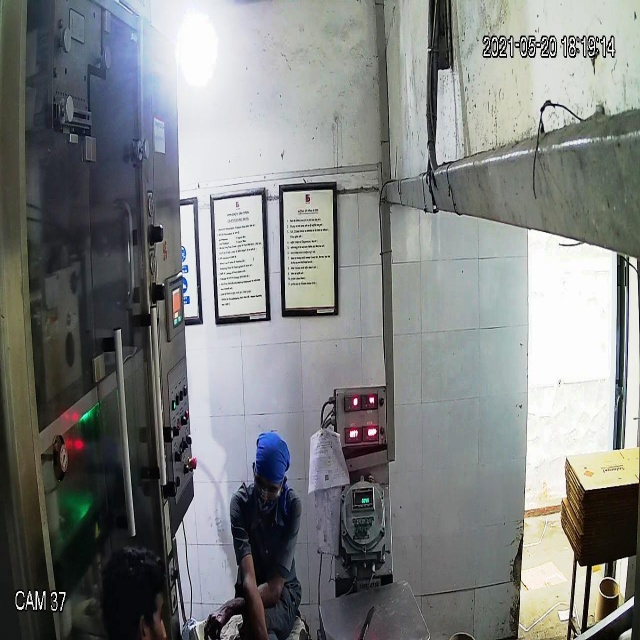Gafas: (252, 466, 292, 504)
